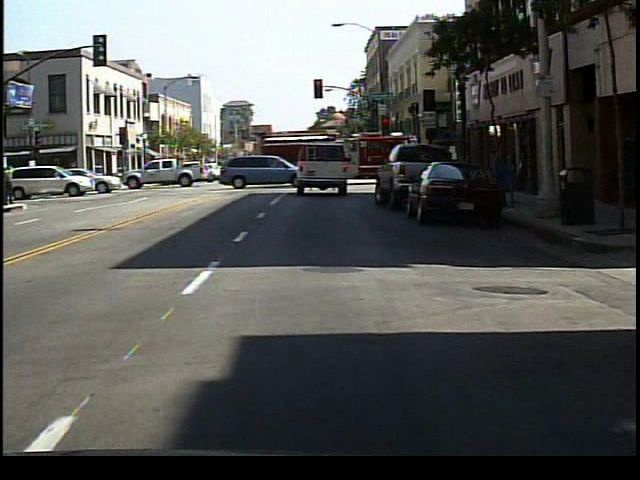person: (7, 160, 20, 208)
